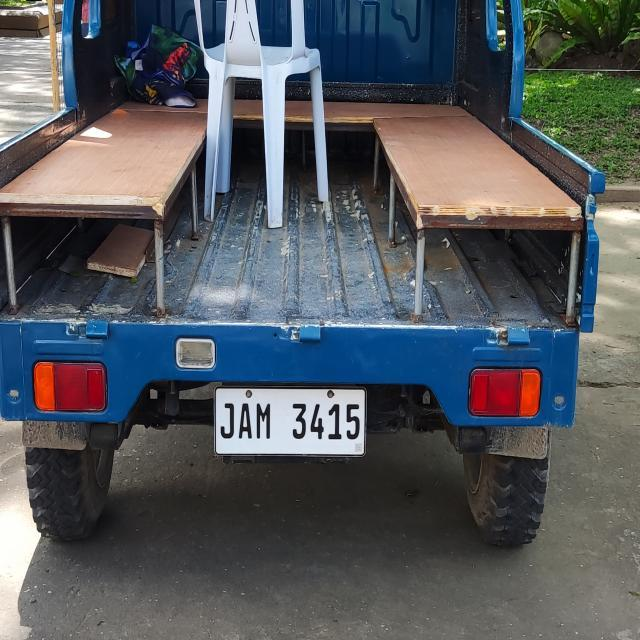LicensePlate: (213, 386, 367, 456)
